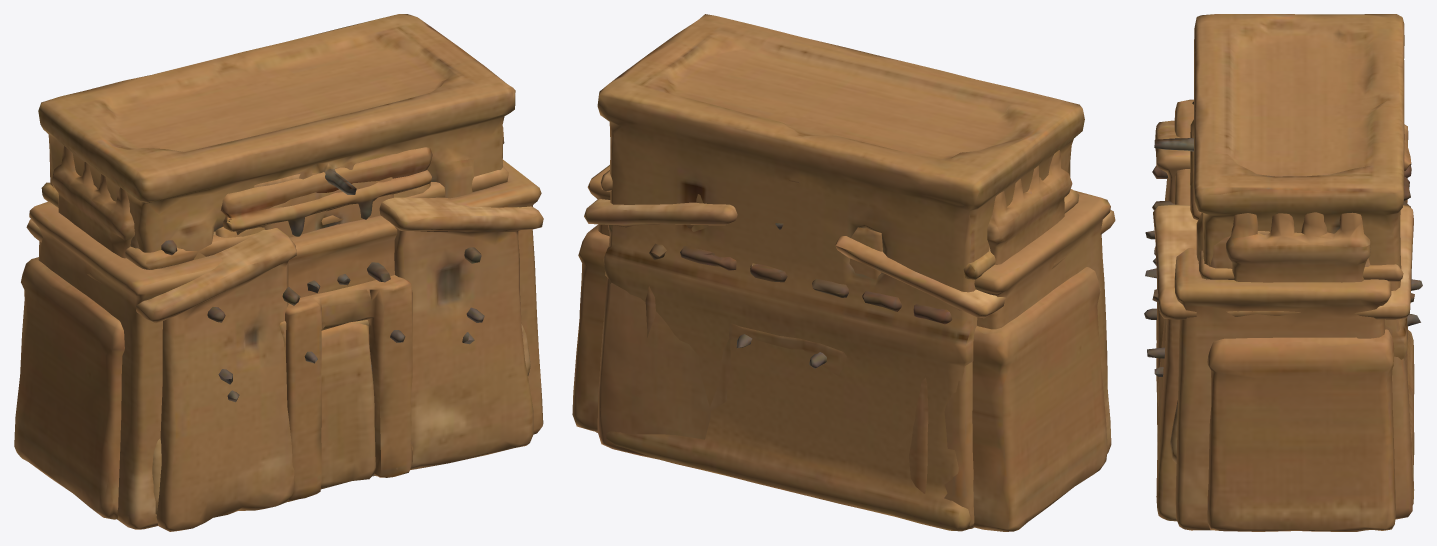
Rendered from houses.glb.
The picture shows the model from 3 angles, left to right: view 1: azimuth 30°, elevation 25°; view 2: azimuth 150°, elevation 25°; view 3: azimuth 270°, elevation 25°; orthographic projection. The views are drawn at different scales.
Visible parts, largest first — view 1: part9, part6, part2, part3, part5, part0, part8, part7, part4; view 2: part9, part3, part6, part2, part4, part8, part5; view 3: part9, part3, part2, part6, part5, part7, part4, part0.
Part boxes in pixels (x1,y1,x2,y2): part9: (38, 14, 515, 500); part6: (26, 197, 543, 531); part2: (29, 159, 543, 529); part3: (14, 126, 504, 519); part5: (41, 165, 508, 489); part0: (220, 147, 432, 236); part8: (215, 153, 430, 501); part7: (130, 231, 530, 514); part4: (207, 247, 481, 322); part9: (597, 14, 1084, 531); part3: (572, 150, 1107, 531); part6: (584, 199, 1115, 529); part2: (587, 165, 1111, 453); part4: (649, 243, 952, 324); part8: (645, 180, 928, 493); part5: (600, 170, 1079, 279); part9: (1153, 14, 1414, 504); part3: (1144, 212, 1422, 531); part2: (1174, 99, 1391, 530); part6: (1153, 120, 1413, 521); part5: (1198, 250, 1403, 281); part7: (1170, 101, 1370, 463); part4: (1152, 163, 1414, 302); part0: (1190, 119, 1201, 220).
Size of the model in its own units: 0.2401 by 0.182 by 0.1371.
1 material, 1 textured.
